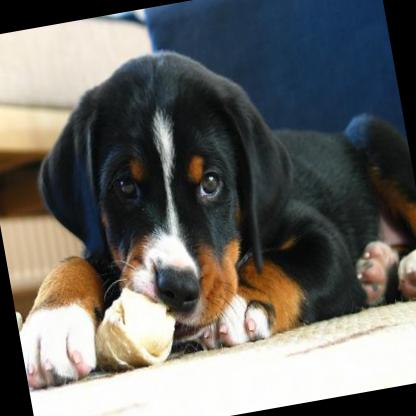Appenzeller: (0, 12, 416, 391)
